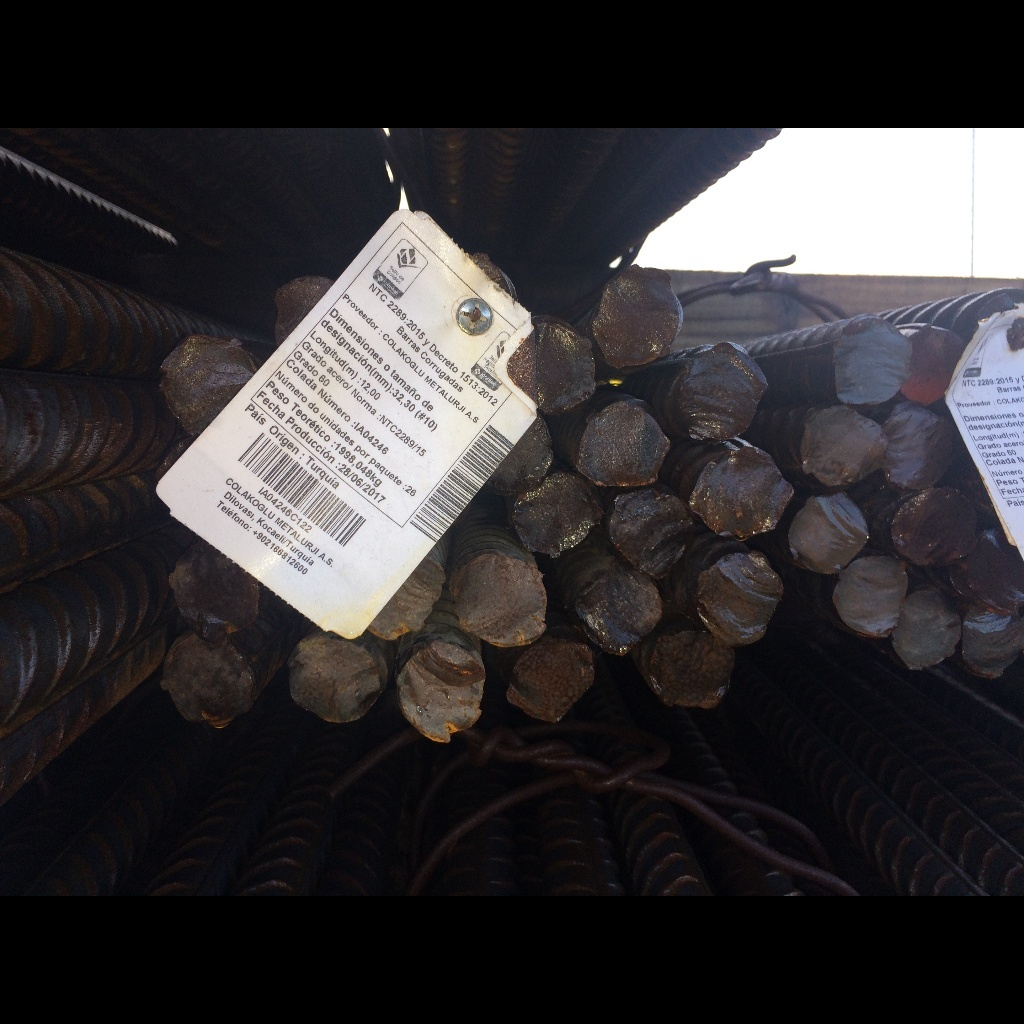dipstick: (165, 336, 257, 433), (397, 641, 483, 740), (451, 557, 546, 644), (593, 268, 680, 363), (682, 345, 767, 439), (163, 637, 253, 721), (290, 639, 378, 721), (693, 459, 787, 535), (698, 555, 782, 639), (173, 554, 261, 634), (582, 404, 667, 486), (610, 490, 691, 571), (509, 644, 593, 721), (803, 408, 885, 484), (834, 319, 907, 404), (891, 490, 976, 563), (513, 479, 592, 556), (651, 633, 732, 708), (526, 324, 592, 411), (790, 495, 865, 570), (373, 560, 445, 638), (834, 557, 905, 635), (585, 577, 658, 652), (887, 407, 951, 490), (895, 590, 960, 668), (905, 324, 962, 404), (487, 421, 549, 493), (961, 612, 1024, 675), (970, 535, 1024, 608), (276, 274, 325, 337)
